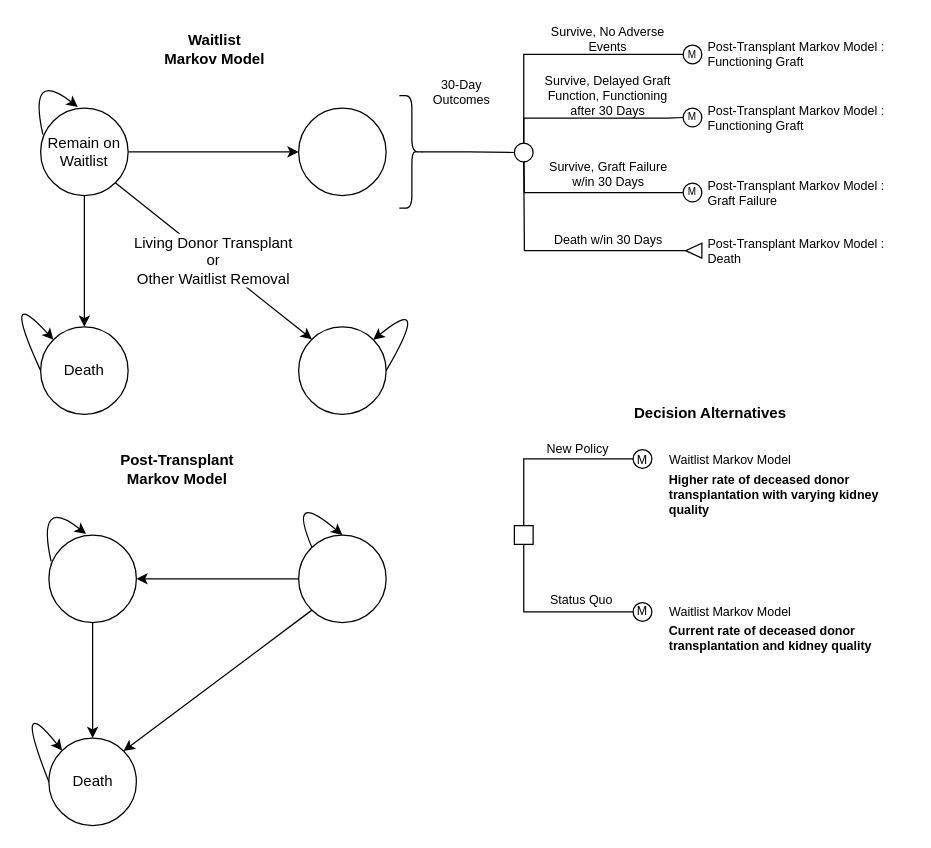
Some shapes in this 931 by 848 pixel diagram are drawn without their labels. The shapes that lost their labels are listed below. From the top down, each one's centre as x and y in pixels, then its label:
(x=341, y=151): Deceased Donor Transplant
(x=341, y=370): Exit Model
(x=92, y=578): Graft Failure
(x=341, y=578): Functioning Graft
